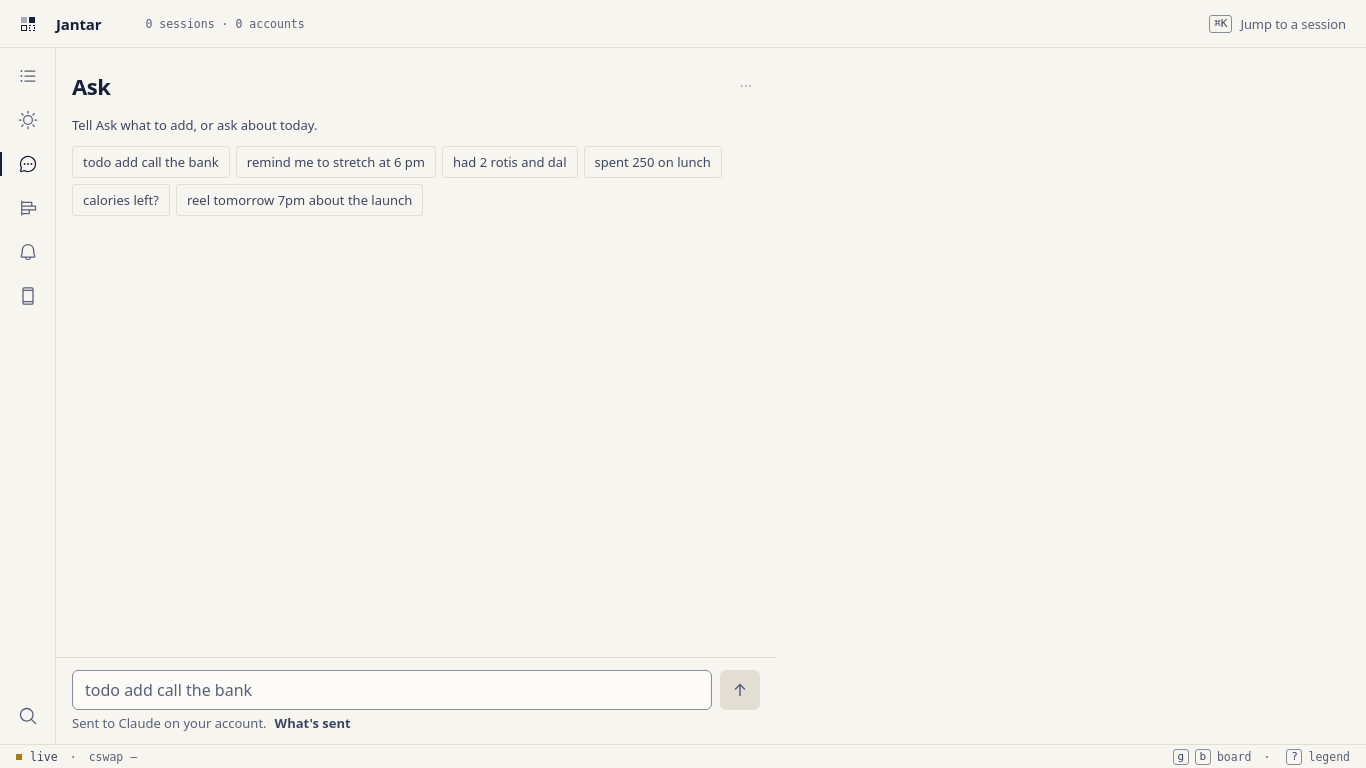
Test: the page › says it goes to Claude in one line under the box; What's sent opens the exact words
This screenshot has width=1366, height=768.
Expected: the text "Tell Ask what to add, or ask about today." is shown, [72, 116, 318, 134]
Click the button "What's sent": (313, 723) [275, 714, 351, 732]
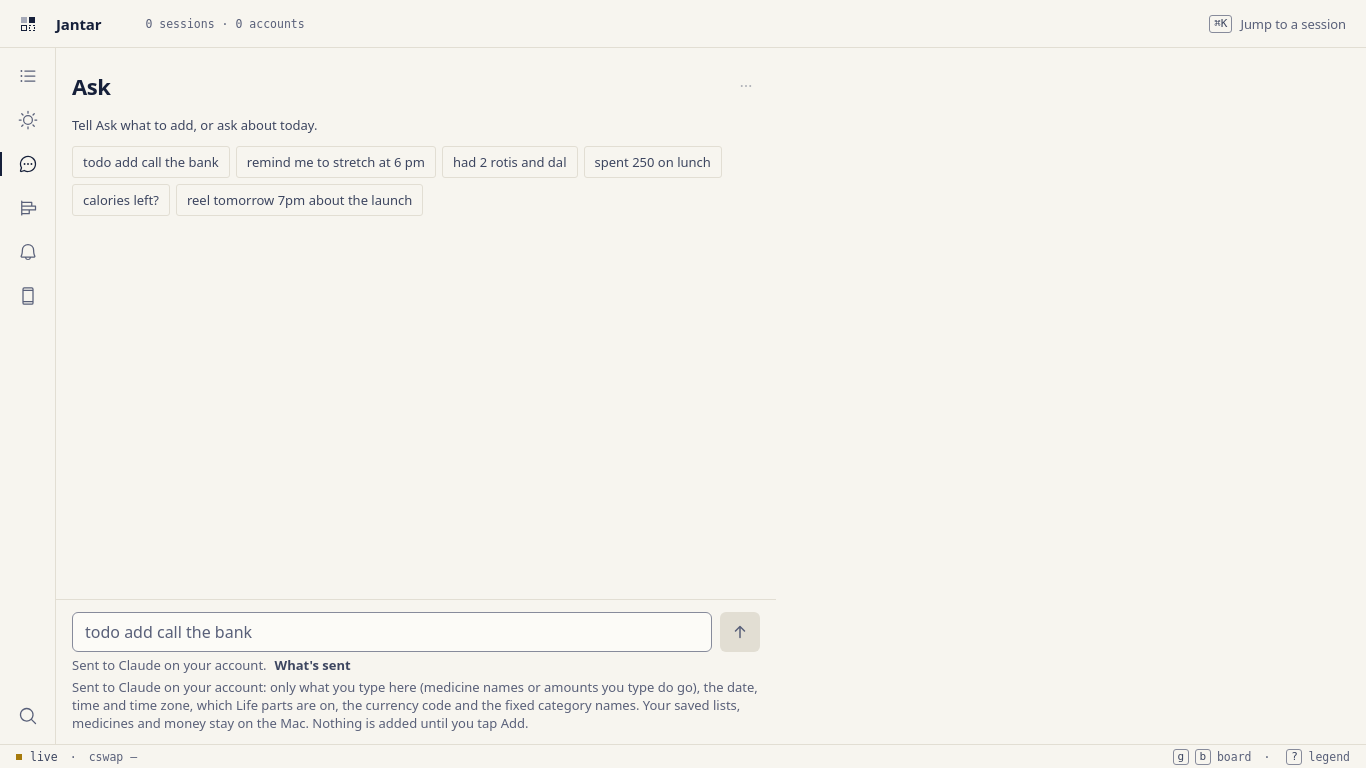
Expected: the button "What's sent" is expanded
Click the button "What's sent": (313, 665) [275, 656, 351, 674]
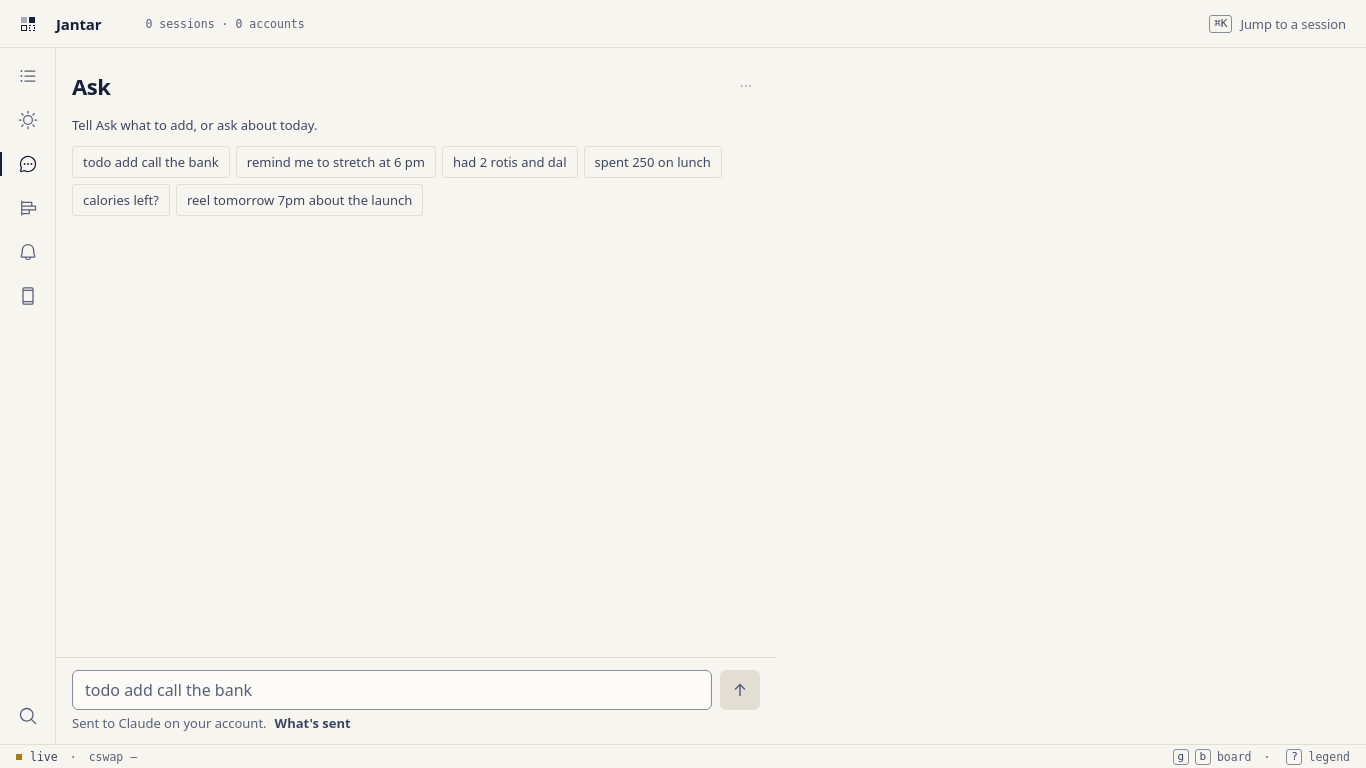
Expected: the heading "Ask" is shown, [72, 71, 110, 101]
Expected: the text "Sent to Claude on your account: only what you type here (medicine names or amounts you type do go), the date, time and t" is gone
